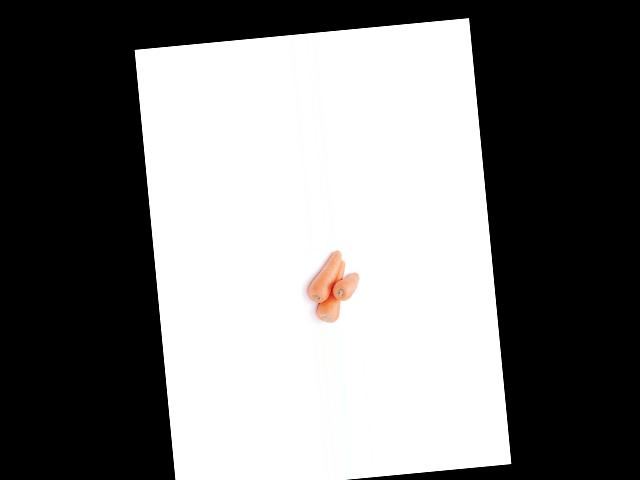carrot: (309, 258, 349, 323)
